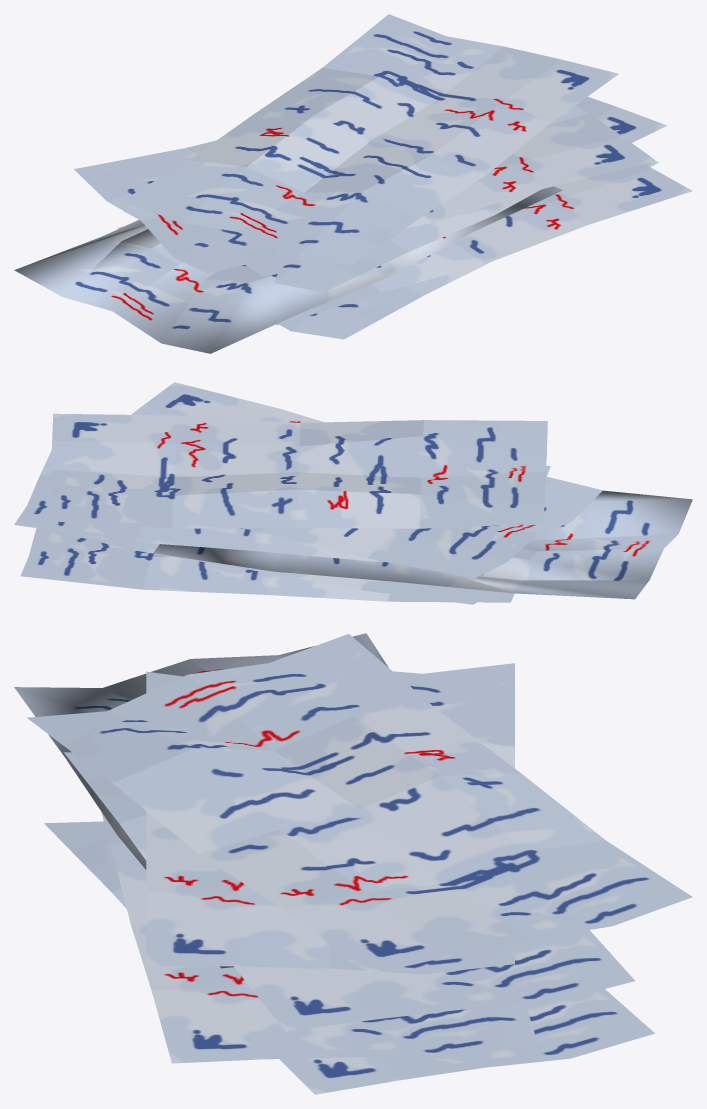
The model's file is Papers.fbx.
The picture shows the model from 3 angles, top to bottom: view 1: azimuth 30°, elevation 25°; view 2: azimuth 150°, elevation 25°; view 3: azimuth 270°, elevation 25°; orthographic projection. The views are drawn at different scales.
Parts seen in each view (by area): view 1: Plocha.005, Plocha.009, Plocha.004, Plocha.007, Plocha.006, Plocha.008; view 2: Plocha.005, Plocha.009, Plocha.004, Plocha.008, Plocha.006, Plocha.007; view 3: Plocha.005, Plocha.004, Plocha.007, Plocha.006, Plocha.008, Plocha.009.
Part boxes in pixels (box(x1,y1,x2,y2)): Plocha.005: box(123, 14, 618, 264); Plocha.009: box(14, 186, 563, 353); Plocha.004: box(74, 105, 655, 273); Plocha.007: box(118, 163, 692, 325); Plocha.006: box(123, 96, 667, 292); Plocha.008: box(280, 161, 658, 339); Plocha.005: box(49, 413, 547, 528); Plocha.009: box(153, 490, 692, 599); Plocha.004: box(46, 382, 602, 578); Plocha.008: box(20, 528, 514, 602); Plocha.006: box(14, 451, 550, 562); Plocha.007: box(50, 530, 492, 604); Plocha.005: box(27, 634, 692, 974); Plocha.004: box(146, 663, 514, 974); Plocha.007: box(101, 812, 537, 1063); Plocha.006: box(64, 752, 634, 1031); Plocha.008: box(44, 821, 654, 1094); Plocha.009: box(14, 633, 388, 968).
Bounding box in the file's own units: 1.48 × 0.3256 × 2.15.
